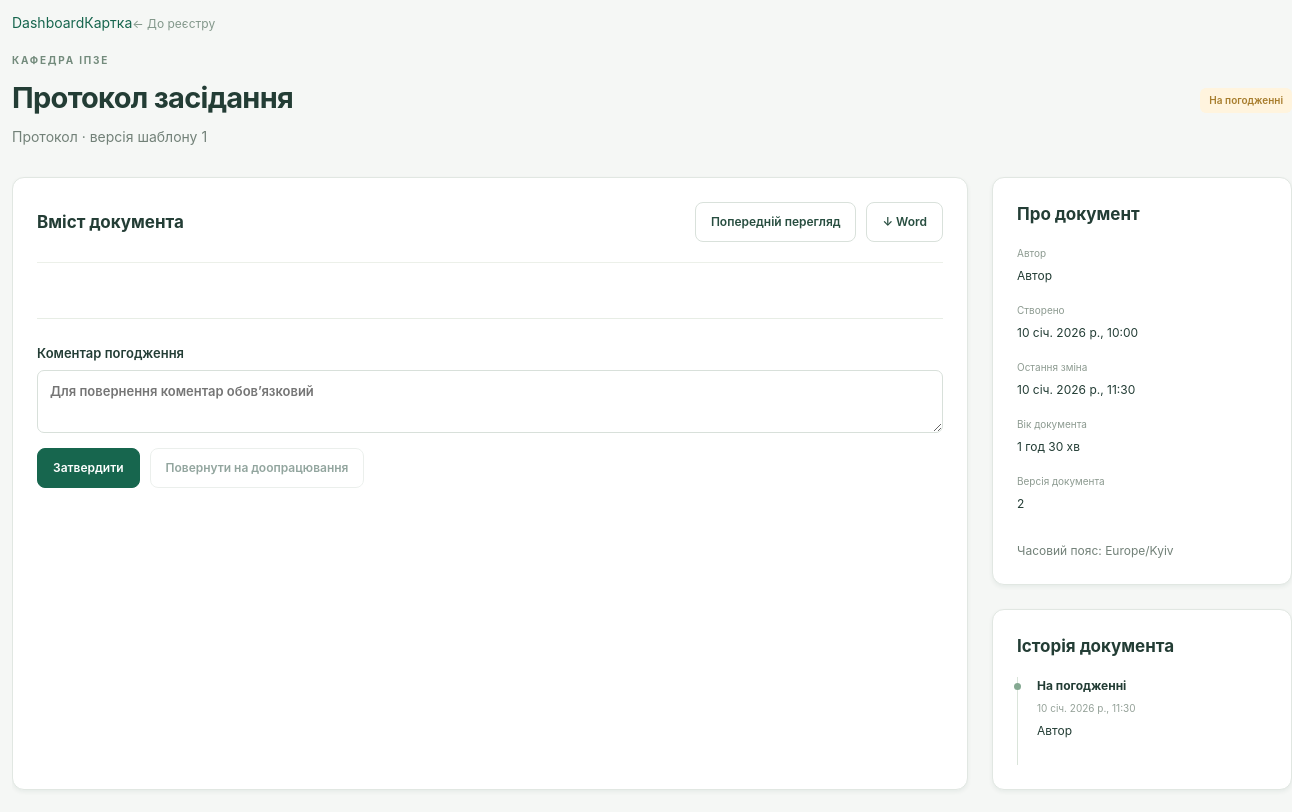
[module3] shows review actions according to the manager role
Expected: the heading "Протокол засідання" is shown, [12, 80, 293, 116]
Expected: the header shows "На погодженні", [1209, 94, 1283, 106]
Type "Уточнити дату" into the text box labelled "Коментар погодження".
click(490, 401); type("Уточнити дату")  # box [37, 370, 943, 433]
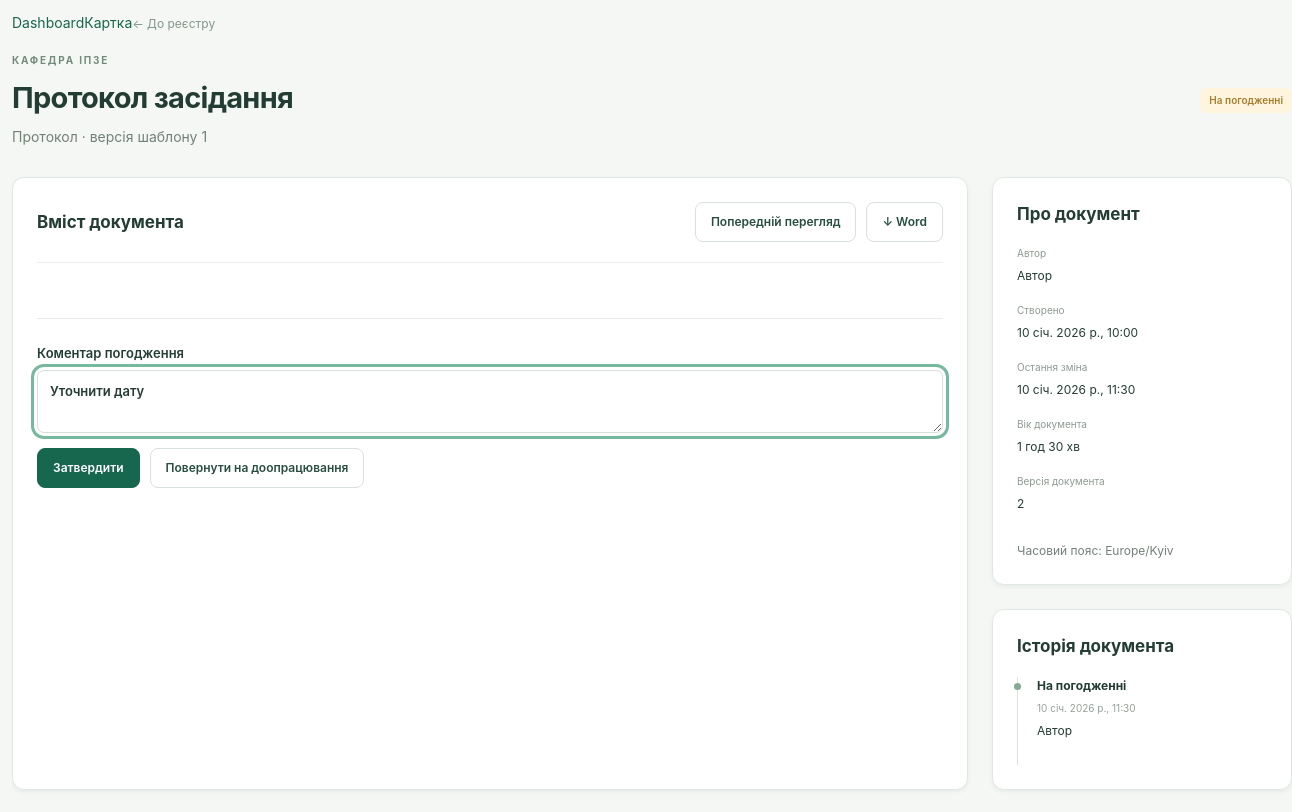
Result: the button "Повернути на доопрацювання" is enabled at [150, 448, 364, 488]
